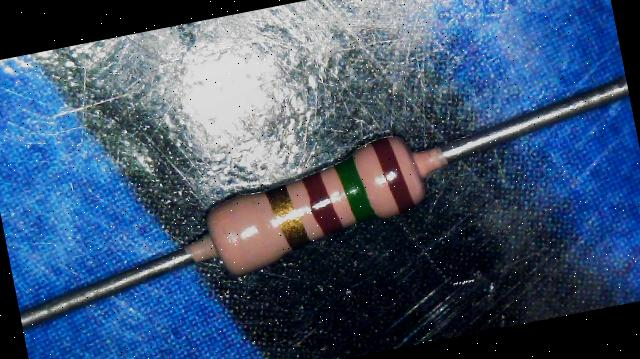brown: (369, 135, 416, 213), (303, 172, 343, 236)
gold: (266, 183, 308, 248)
green: (332, 154, 377, 227)
resistor: (172, 97, 467, 308)
